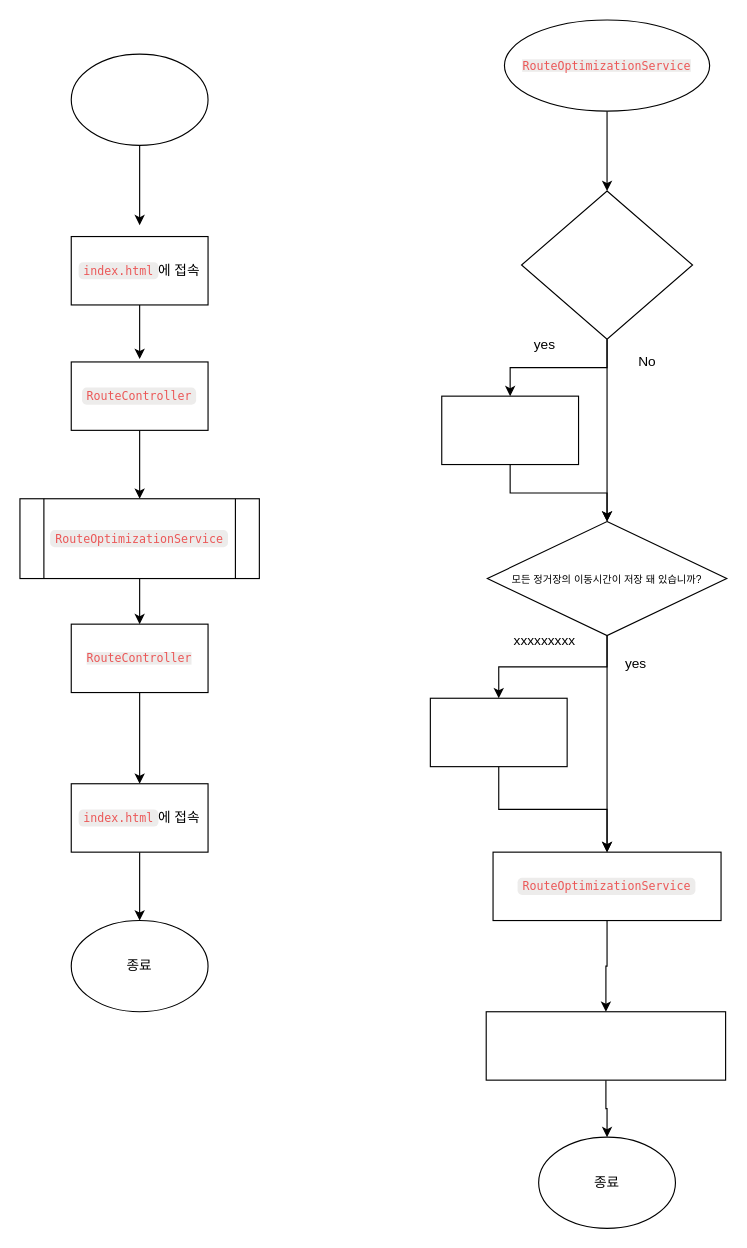
Image size: 747x1248. Some labels were removed from this diagram. Here are the shapes that lost their labels. From the top down, the box of each, then its label:
(70, 53, 208, 145): 시작
(520, 190, 693, 339): 탑승 가능 인원수가 버스 탑승 인원수 보다 많습니까?
(441, 395, 579, 465): 정거장을 가상 정거장으로 분할
(429, 697, 567, 767): KakaoApiService
(485, 1011, 726, 1080): SolutionFormatterService
